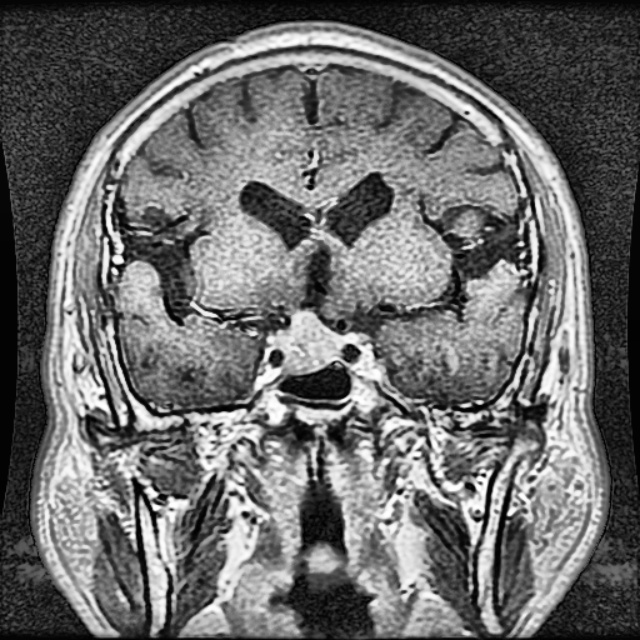Pituitary: (274, 309, 340, 372)
